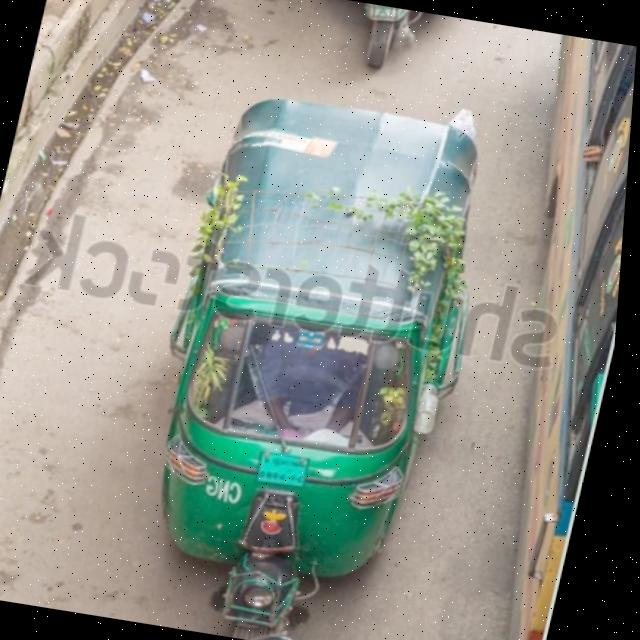cng: (98, 56, 514, 640)
